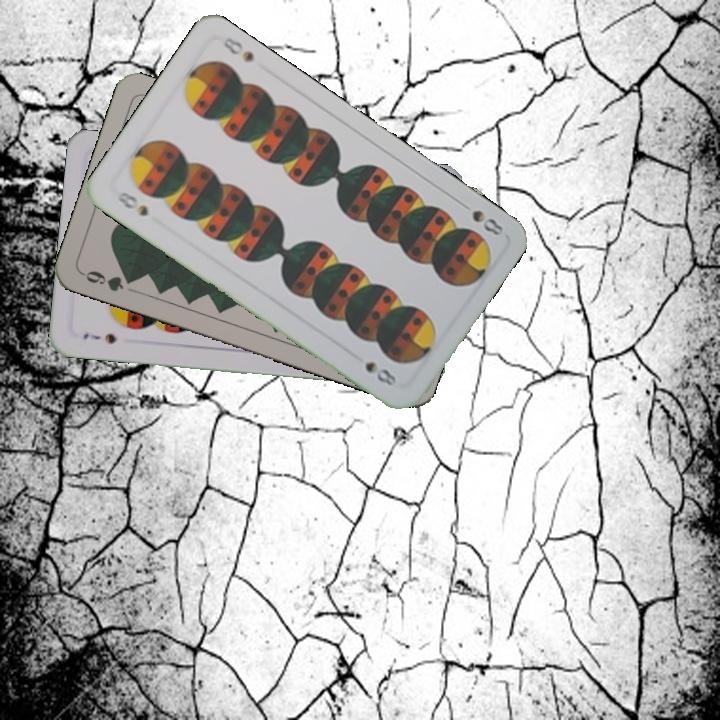G9: (78, 266, 138, 295)
S7: (79, 329, 119, 347)
S8: (454, 197, 506, 239), (112, 186, 151, 219)
